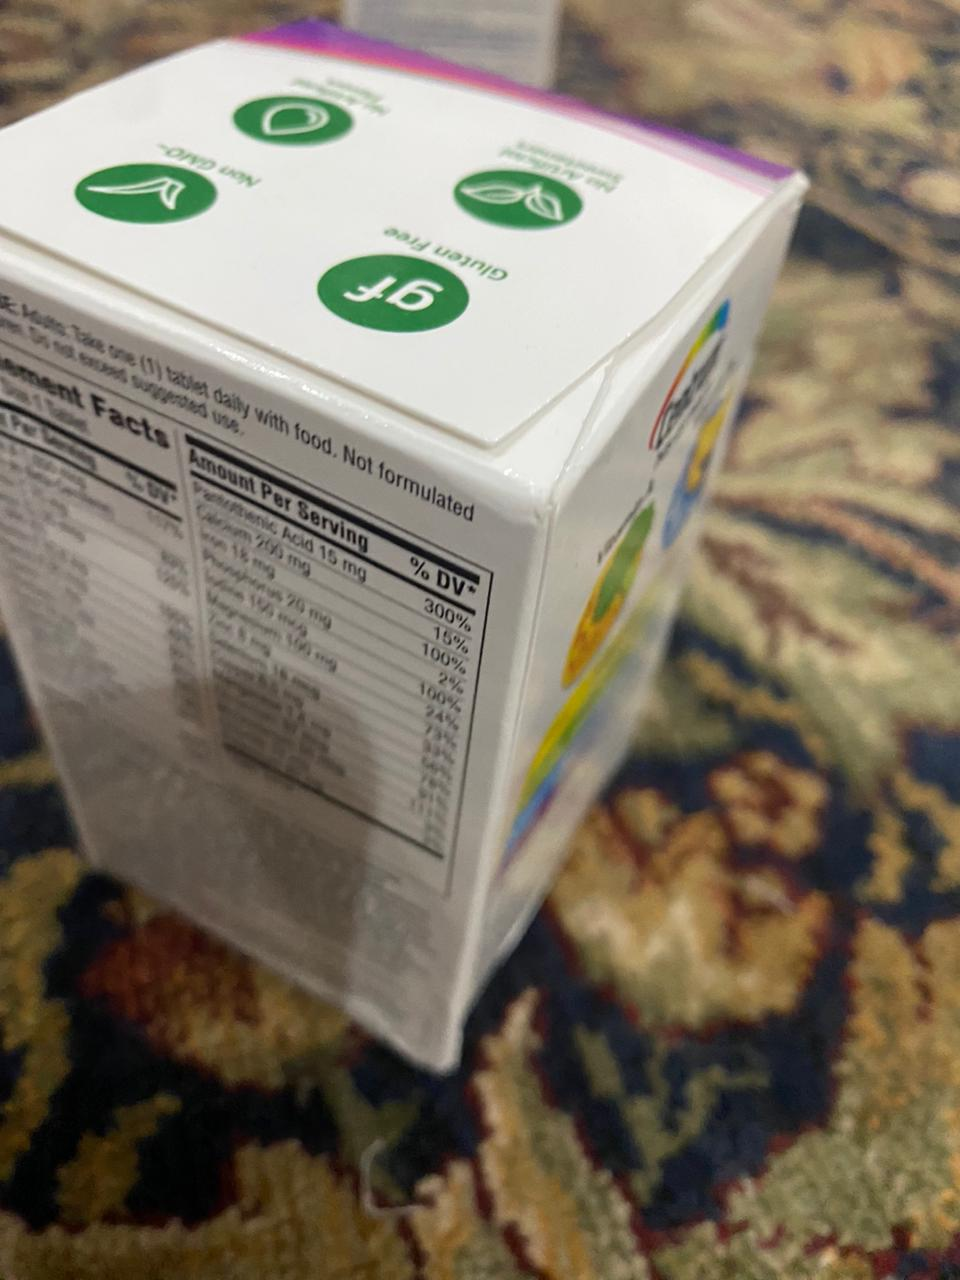Centrum: (4, 13, 809, 1068)
